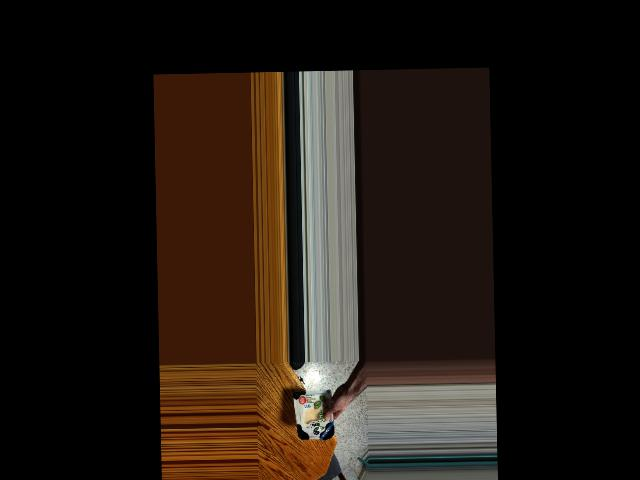cheese: (293, 381, 333, 448)
